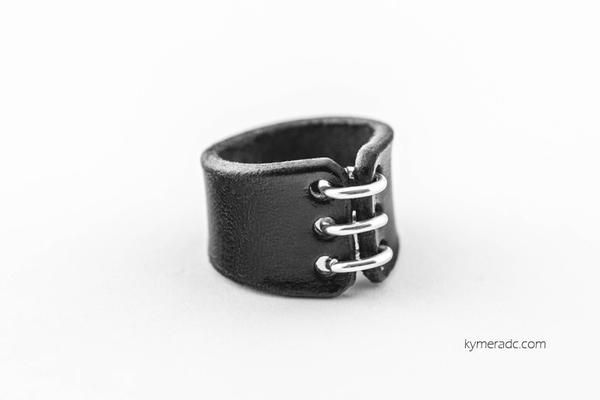cuero: (198, 116, 402, 298)
